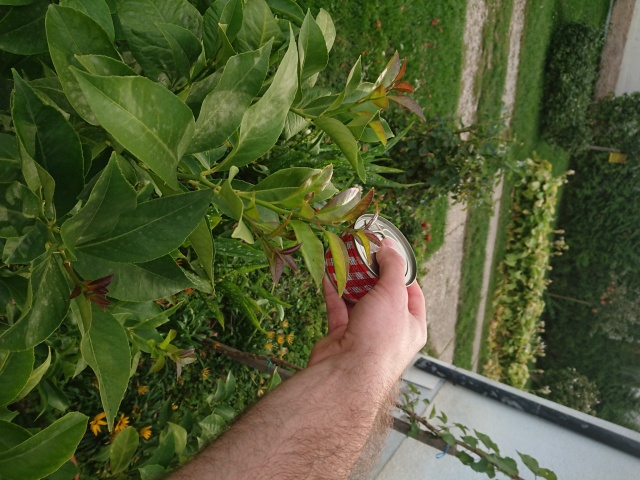Podravka Luncheon Meat 150g: (319, 212, 420, 308)
